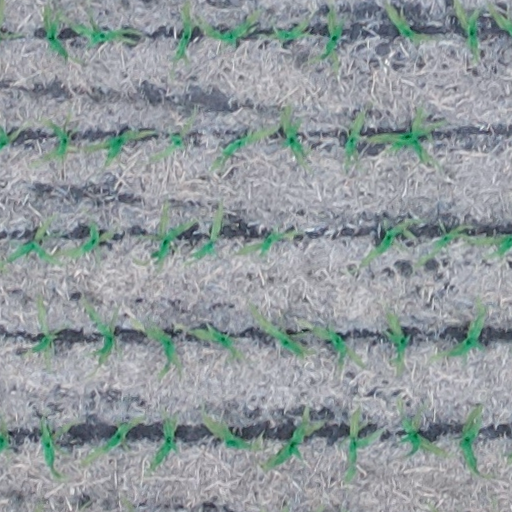planta: (366, 104, 447, 167), (264, 405, 324, 468), (429, 297, 487, 361), (248, 302, 308, 358), (213, 120, 281, 169), (396, 398, 449, 459), (343, 405, 383, 483), (359, 218, 421, 268), (131, 318, 182, 378), (81, 416, 142, 466), (304, 323, 365, 372), (151, 203, 196, 266), (5, 214, 61, 264), (83, 128, 154, 167), (176, 322, 242, 361), (202, 407, 263, 449), (416, 224, 474, 267), (81, 299, 118, 362), (187, 201, 224, 262), (196, 9, 260, 44), (27, 295, 56, 372), (39, 415, 72, 481), (149, 114, 193, 162), (383, 2, 434, 43), (32, 111, 72, 163), (61, 220, 114, 258), (313, 3, 343, 70), (456, 404, 483, 476), (69, 20, 138, 48), (235, 228, 299, 256), (279, 103, 308, 164), (149, 413, 178, 472), (385, 308, 410, 372), (43, 5, 72, 59), (341, 109, 365, 162), (268, 19, 310, 42)
